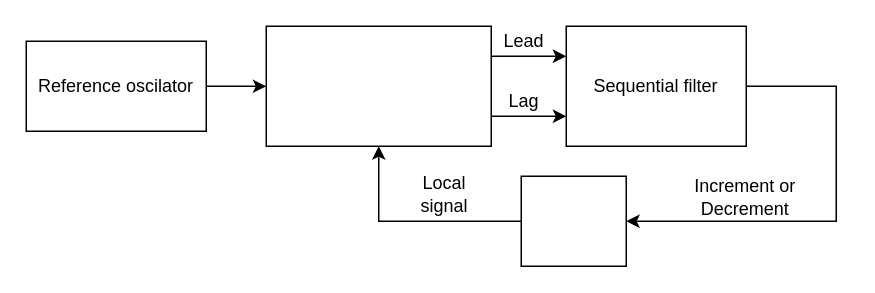
The diagram is 875 pixels wide and 293 high, and some of its shapes have lost their labels. Here are the shapes that lost their labels. From the top down, the centre of each, then its label:
At (x=378, y=85): "Lead/ Lag detector".
At (x=573, y=220): "DCO".
